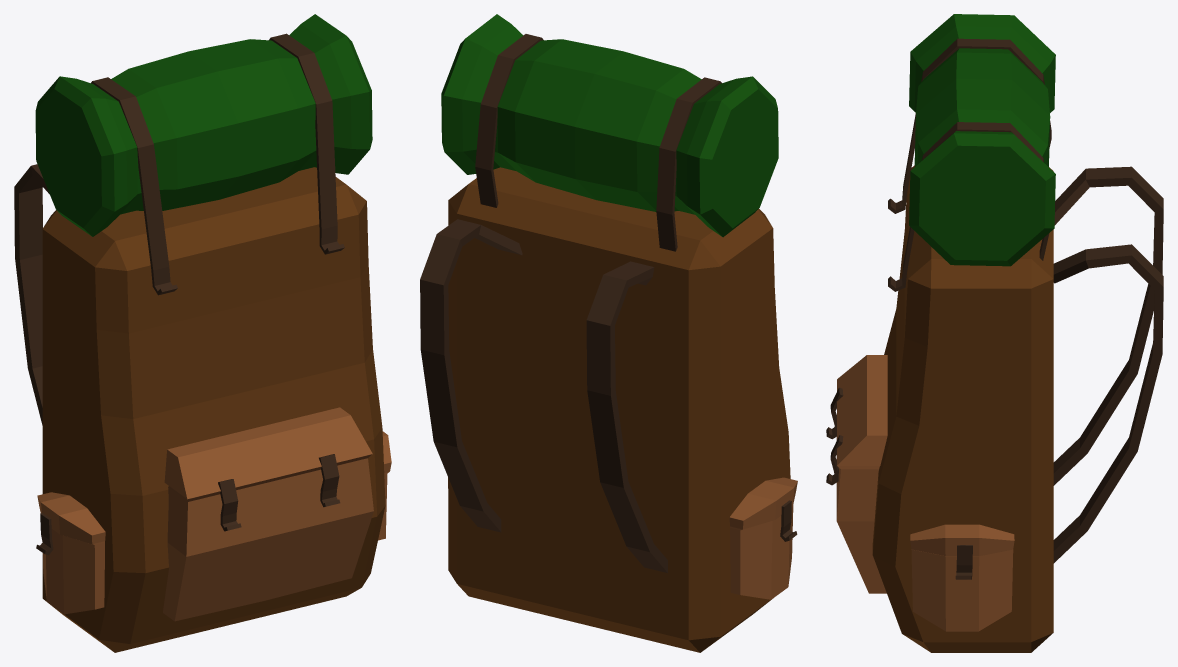
The model's file is bag.glb.
3 views of the same model, side by side, from view 1: azimuth 30°, elevation 25°; view 2: azimuth 150°, elevation 25°; view 3: azimuth 270°, elevation 25° (orthographic). The views are drawn at different scales.
Parts seen in each view (by area): view 1: Backpack; view 2: Backpack; view 3: Backpack.
Part boxes in pixels (left/top/right/bottom): Backpack: left=14, top=14, right=391, bottom=652; Backpack: left=420, top=14, right=797, bottom=652; Backpack: left=826, top=14, right=1163, bottom=652.
Size of the model in its own units: 0.5109 by 0.7789 by 0.4535.
